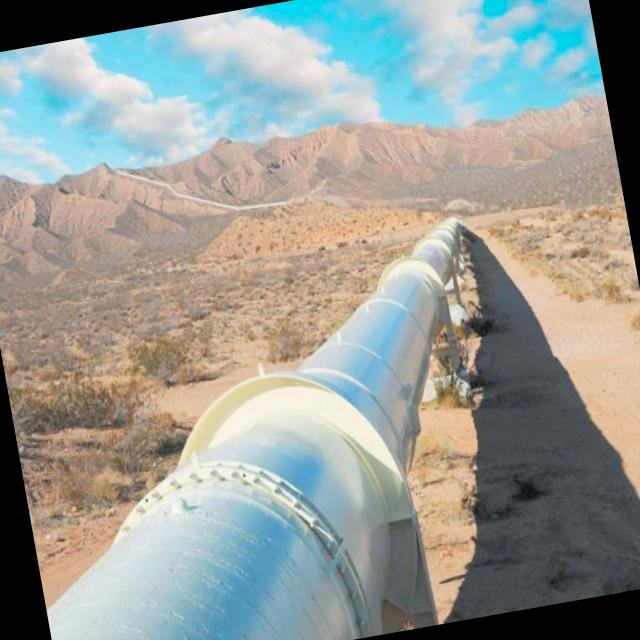gas: (47, 216, 459, 640)
